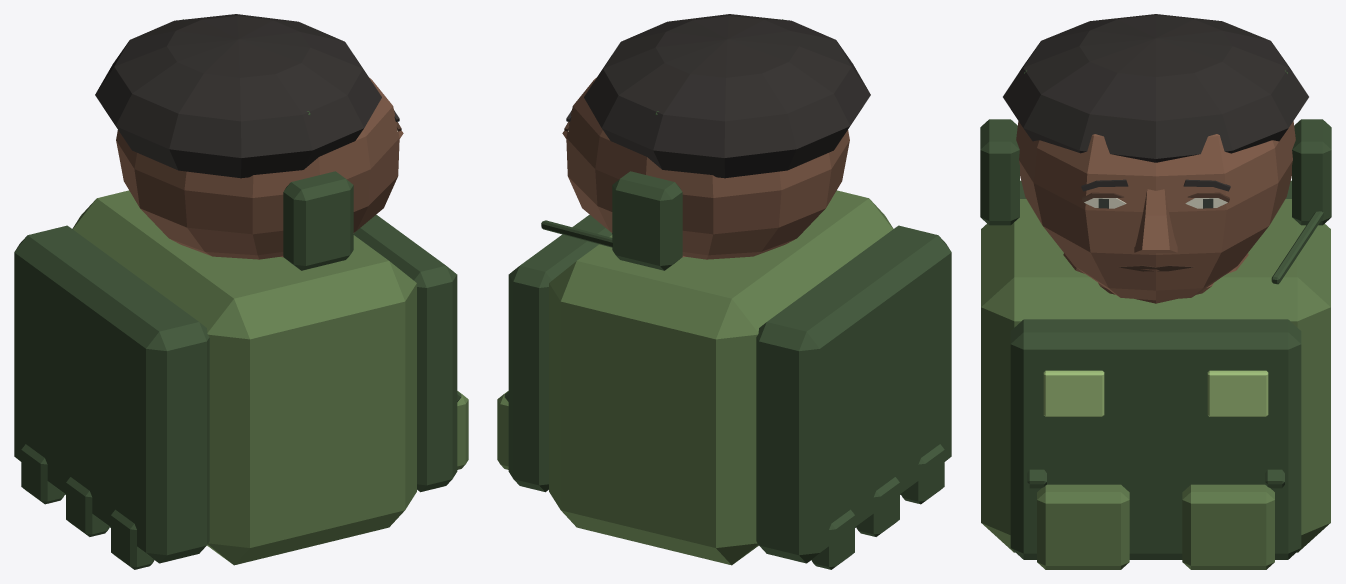
Rendered from woodland-scout.helmet-off.glb.
3 views of the same model, side by side, from view 1: azimuth 30°, elevation 25°; view 2: azimuth 150°, elevation 25°; view 3: azimuth 270°, elevation 25° (orthographic). The views are drawn at different scales.
Visible parts, largest first — view 1: woodland-scout_helmet-off__main__torso_finish_627d4d_0.03, woodland-scout_helmet-off__main__torso_finish_3e5437_0.03, woodland-scout_helmet-off__main__head_finish_302d2b_0.03, woodland-scout_helmet-off__main__head, woodland-scout_helmet-off__main__head_finish_3e5437_0.03; view 2: woodland-scout_helmet-off__main__torso_finish_627d4d_0.03, woodland-scout_helmet-off__main__torso_finish_3e5437_0.03, woodland-scout_helmet-off__main__head_finish_302d2b_0.03, woodland-scout_helmet-off__main__head, woodland-scout_helmet-off__main__head_finish_3e5437_0.03; view 3: woodland-scout_helmet-off__main__torso_finish_3e5437_0.03, woodland-scout_helmet-off__main__torso_finish_627d4d_0.03, woodland-scout_helmet-off__main__head_finish_302d2b_0.03, woodland-scout_helmet-off__main__head, woodland-scout_helmet-off__main__head_finish_3e5437_0.03, woodland-scout_helmet-off__main__torso_finish_a3c47c_0.03.
Part boxes in pixels (left/top/right/bottom): woodland-scout_helmet-off__main__torso_finish_627d4d_0.03: left=72, top=190, right=468, bottom=565; woodland-scout_helmet-off__main__torso_finish_3e5437_0.03: left=14, top=214, right=461, bottom=569; woodland-scout_helmet-off__main__head_finish_302d2b_0.03: left=95, top=14, right=381, bottom=178; woodland-scout_helmet-off__main__head: left=116, top=77, right=403, bottom=259; woodland-scout_helmet-off__main__head_finish_3e5437_0.03: left=182, top=19, right=353, bottom=270; woodland-scout_helmet-off__main__torso_finish_627d4d_0.03: left=497, top=190, right=893, bottom=565; woodland-scout_helmet-off__main__torso_finish_3e5437_0.03: left=504, top=214, right=951, bottom=569; woodland-scout_helmet-off__main__head_finish_302d2b_0.03: left=584, top=14, right=870, bottom=178; woodland-scout_helmet-off__main__head: left=562, top=77, right=849, bottom=259; woodland-scout_helmet-off__main__head_finish_3e5437_0.03: left=541, top=19, right=783, bottom=270; woodland-scout_helmet-off__main__torso_finish_3e5437_0.03: left=1010, top=180, right=1301, bottom=559; woodland-scout_helmet-off__main__torso_finish_627d4d_0.03: left=981, top=199, right=1330, bottom=569; woodland-scout_helmet-off__main__head_finish_302d2b_0.03: left=1003, top=14, right=1308, bottom=162; woodland-scout_helmet-off__main__head: left=1016, top=121, right=1295, bottom=300; woodland-scout_helmet-off__main__head_finish_3e5437_0.03: left=980, top=70, right=1331, bottom=284; woodland-scout_helmet-off__main__torso_finish_a3c47c_0.03: left=1043, top=370, right=1268, bottom=416.
Size of the model in its own units: 30.65 by 39.5 by 26.6.
